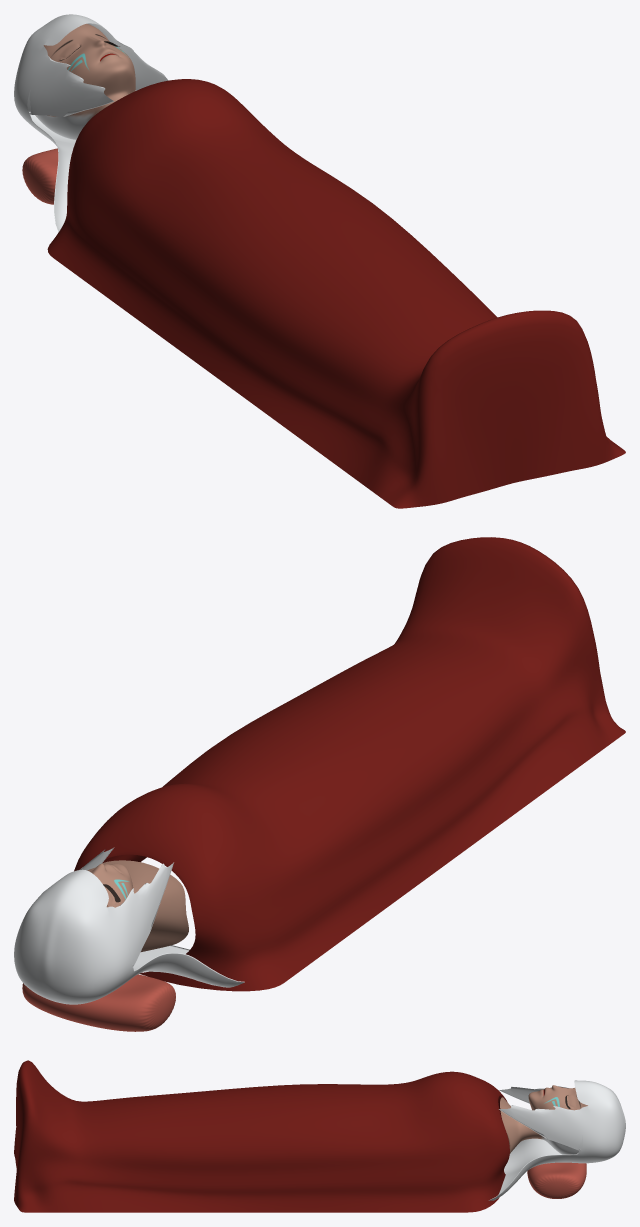
File: Teii.fbx
The picture shows the model from 3 angles, top to bottom: view 1: azimuth 30°, elevation 25°; view 2: azimuth 150°, elevation 25°; view 3: azimuth 270°, elevation 25°; orthographic projection. The views are drawn at different scales.
Visible parts, largest first — view 1: Teii; view 2: Teii; view 3: Teii.
Part boxes in pixels (left/top/right/bottom): Teii: left=14, top=14, right=625, bottom=508; Teii: left=14, top=537, right=625, bottom=1031; Teii: left=14, top=1060, right=625, bottom=1212.
Bounding box in the file's own units: 49.46 × 36.58 × 174.
